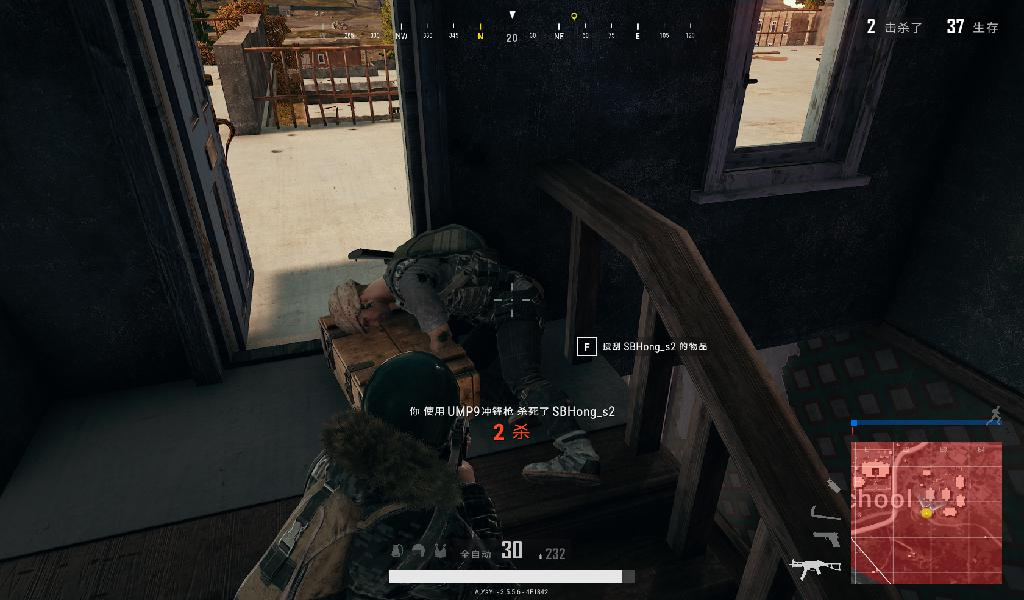Target Person: (328, 222, 609, 482), (229, 348, 512, 600)
